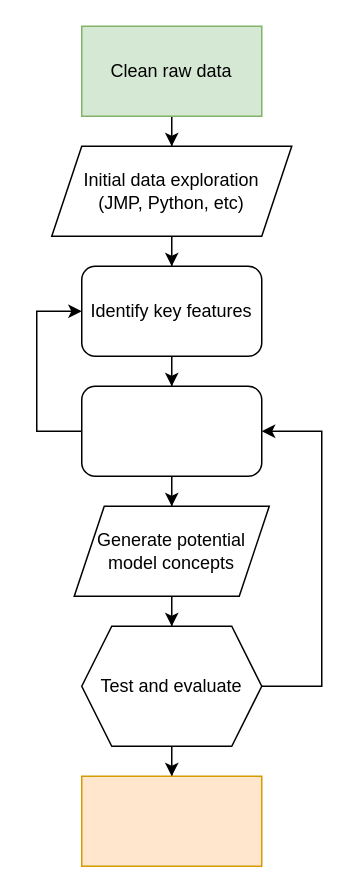
This 360x893 diagram has some shape labels left out. The shapes that lost their labels are listed below. From the top down, each one's box as (x1, y1, x2, y2) in pixels, then its label:
(80, 385, 262, 476): Cross-domain research, past approaches
(80, 775, 262, 866): Finalize Solution
